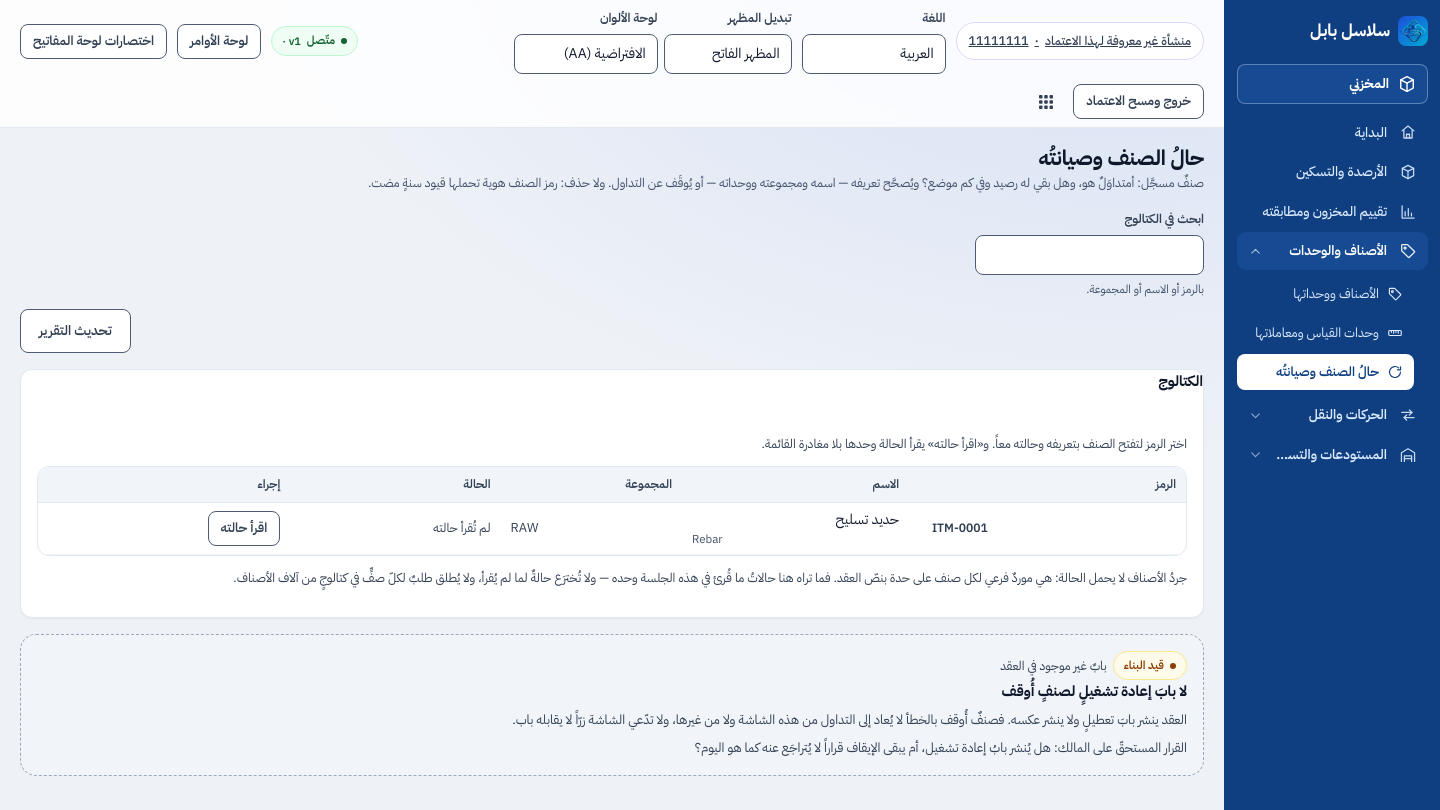
Scenario: الأبواب التي لم يكن يبلغها شيء › readItem و readItemLifecycle يُطلبان معاً عند فتح الصنف
This screenshot has width=1440, height=810.
Expected: the element with test id "life-table" is shown, x1=37 y1=466 x2=1187 y2=556
Click the button with test id "life-pick".
click(960, 528)  # box x1=919 y1=512 x2=1001 y2=545
(page scrolled)
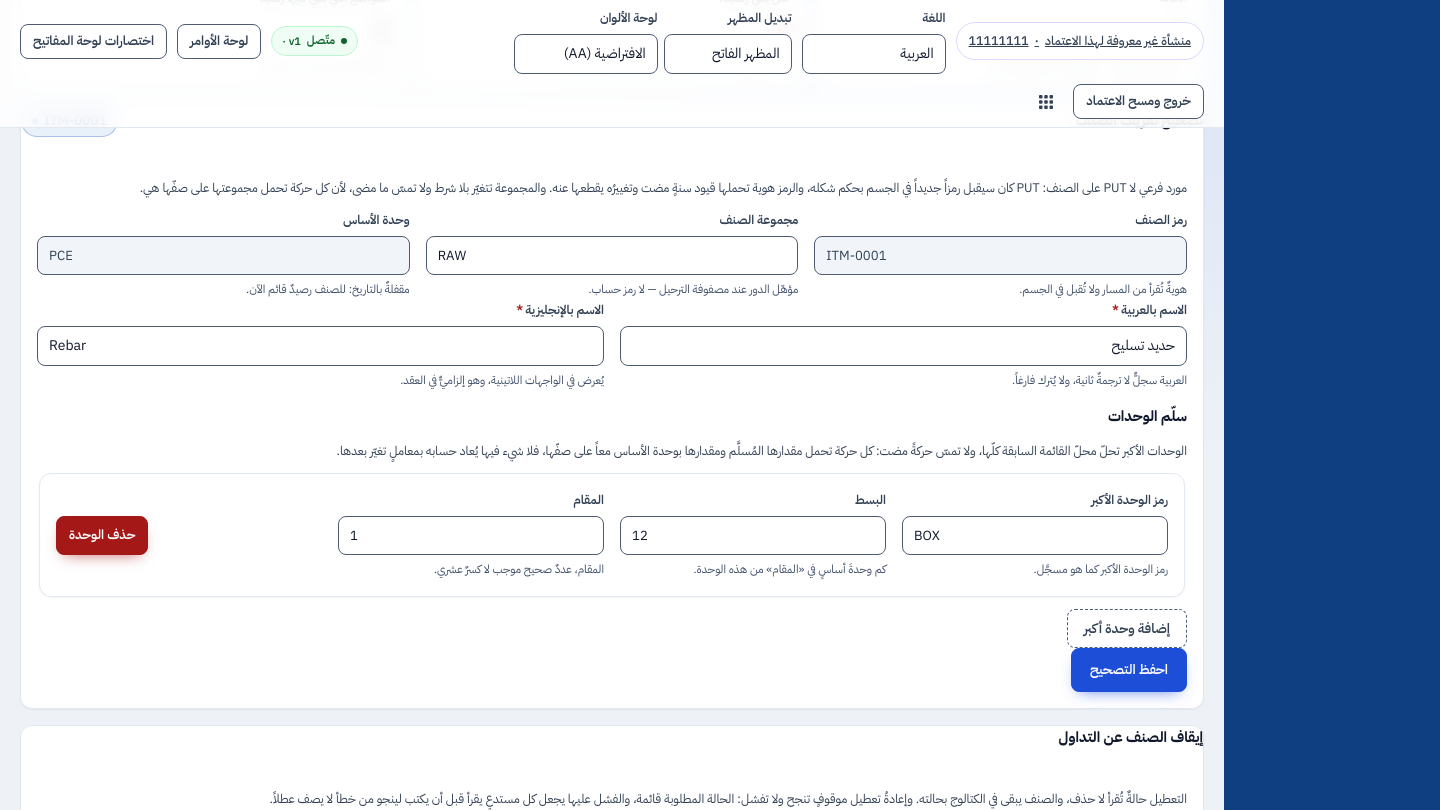
Expected: the element with test id "life-revise-form" is shown
